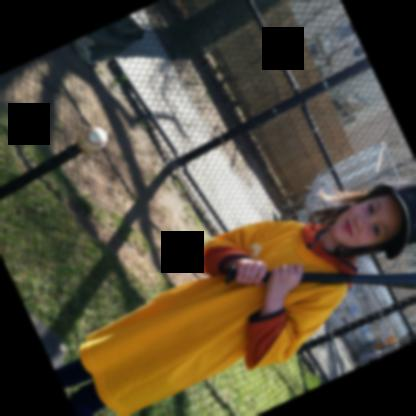backpack: (70, 15, 142, 65), (398, 330, 416, 348)
